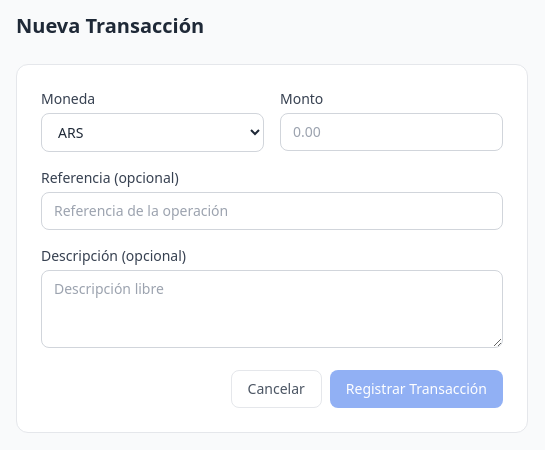
Test: NewTransactionPage › muestra el comprobante de transacción procesada
In the number field with placeholder "0.00": x=392, y=132 [280, 113, 503, 151], type "100"
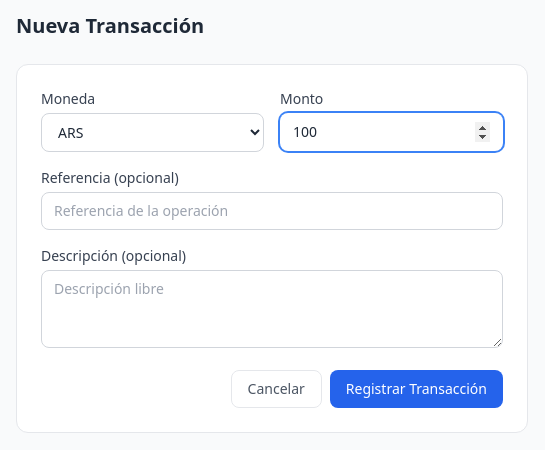
Click the button "Registrar Transacción": x=416, y=389 [330, 370, 503, 408]
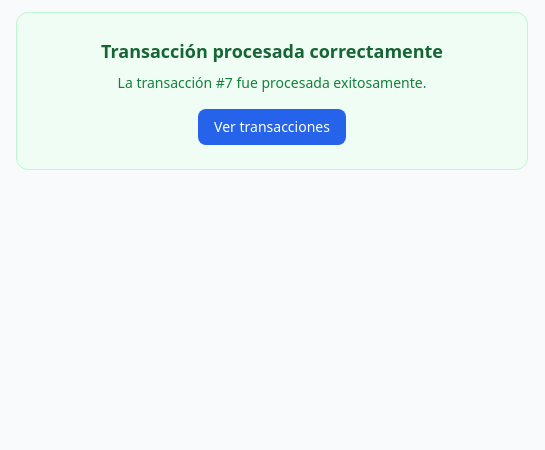
Expected: the field with placeholder "0.00" is not shown
Expected: the text "Transacción procesada correctamente" is shown, [101, 39, 443, 63]
Expected: the text "La transacción #7 fue procesada exitosamente." is shown, [118, 73, 426, 92]
